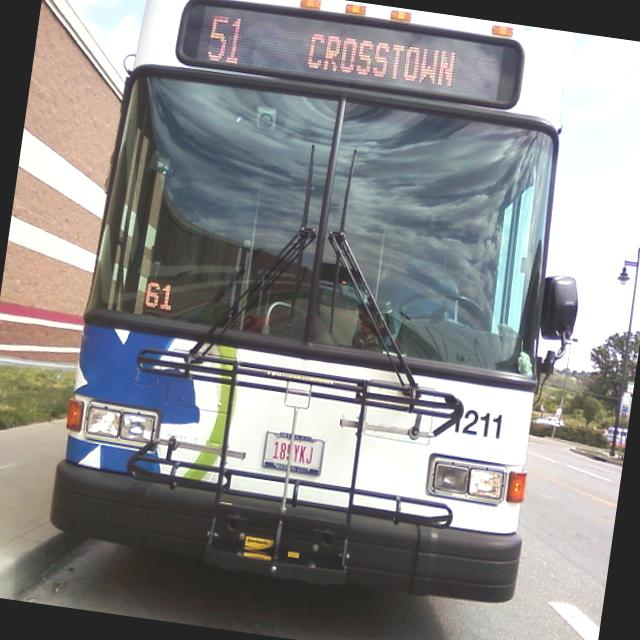Vehicle: (43, 0, 616, 610), (536, 414, 565, 426)
